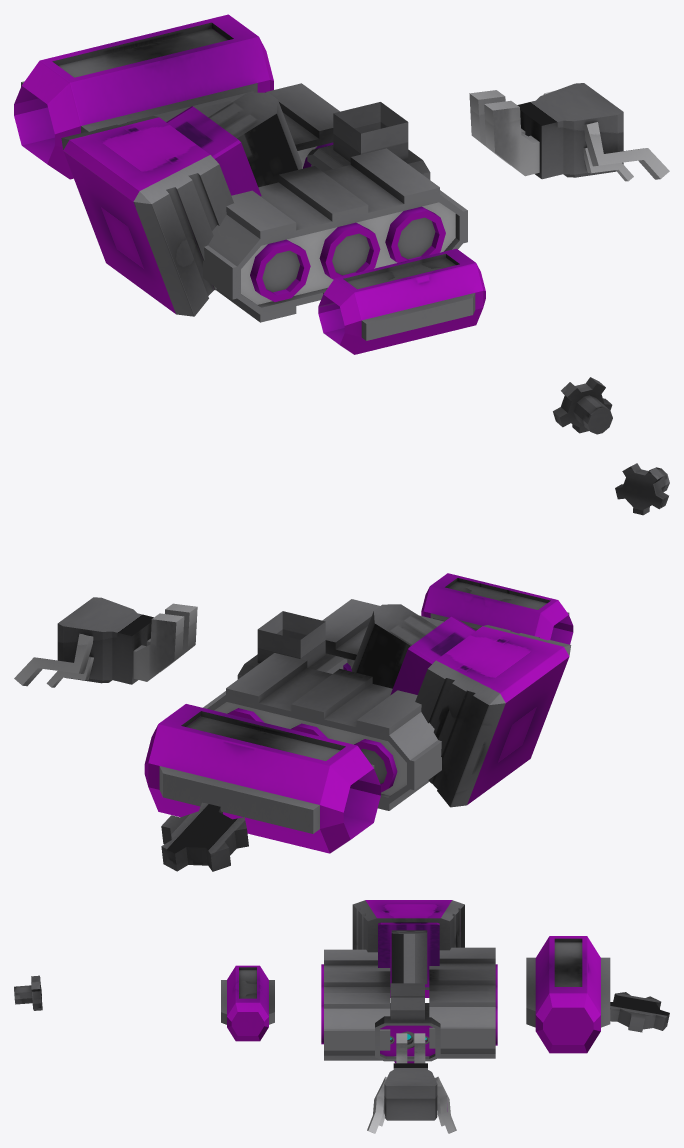
Rendered from Enemy2_Die31.obj.
The picture shows the model from 3 angles, top to bottom: view 1: azimuth 30°, elevation 25°; view 2: azimuth 150°, elevation 25°; view 3: azimuth 270°, elevation 25°; orthographic projection. The views are drawn at different scales.
Visible parts, largest first — view 1: Object006, Object013, Object011, Object014, Object010, Object012, Object008; view 2: Object013, Object011, Object006, Object010, Object014, Object009, Object012, Object008; view 3: Object006, Object011, Object013, Object010, Object014, Object012, Object009, Object008.
Boxes of the visible parts, <box> form: Object006: <box>197,83,467,322</box>; Object013: <box>61,92,302,316</box>; Object011: <box>14,14,273,179</box>; Object014: <box>318,248,485,354</box>; Object010: <box>469,83,669,181</box>; Object012: <box>307,102,430,179</box>; Object008: <box>553,377,612,434</box>; Object013: <box>351,604,571,807</box>; Object011: <box>144,704,380,853</box>; Object006: <box>203,599,443,810</box>; Object010: <box>14,597,197,687</box>; Object014: <box>421,573,573,644</box>; Object009: <box>161,802,248,871</box>; Object012: <box>237,611,347,679</box>; Object008: <box>615,463,669,515</box>; Object006: <box>321,947,497,1060</box>; Object011: <box>526,936,610,1053</box>; Object013: <box>352,900,464,997</box>; Object010: <box>367,1033,456,1133</box>; Object014: <box>221,965,274,1041</box>; Object012: <box>375,983,440,1063</box>; Object009: <box>610,992,669,1032</box>; Object008: <box>14,975,42,1010</box>.
Bounding box in the file's own units: 199 × 57.52 × 338.
